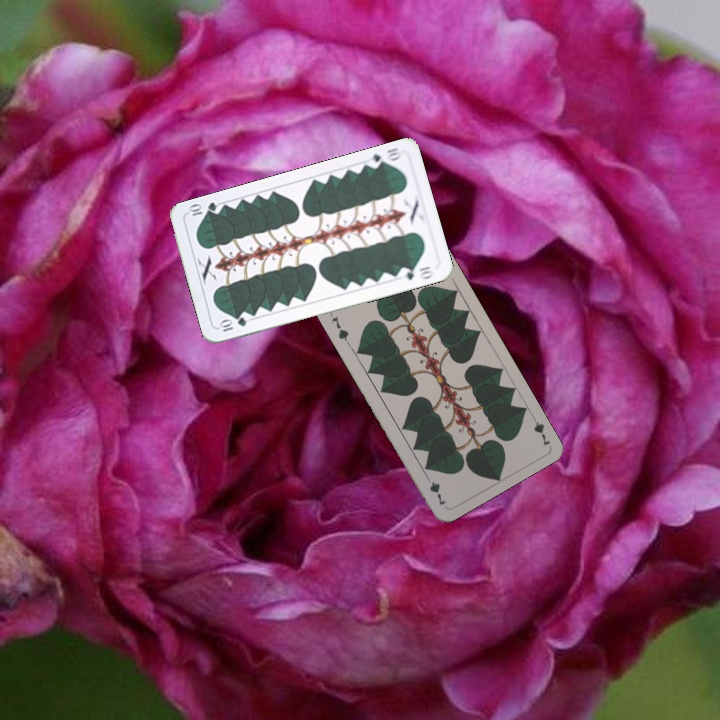G10: (363, 144, 404, 171), (215, 313, 249, 334)
G7: (527, 409, 553, 449), (328, 312, 351, 345)
